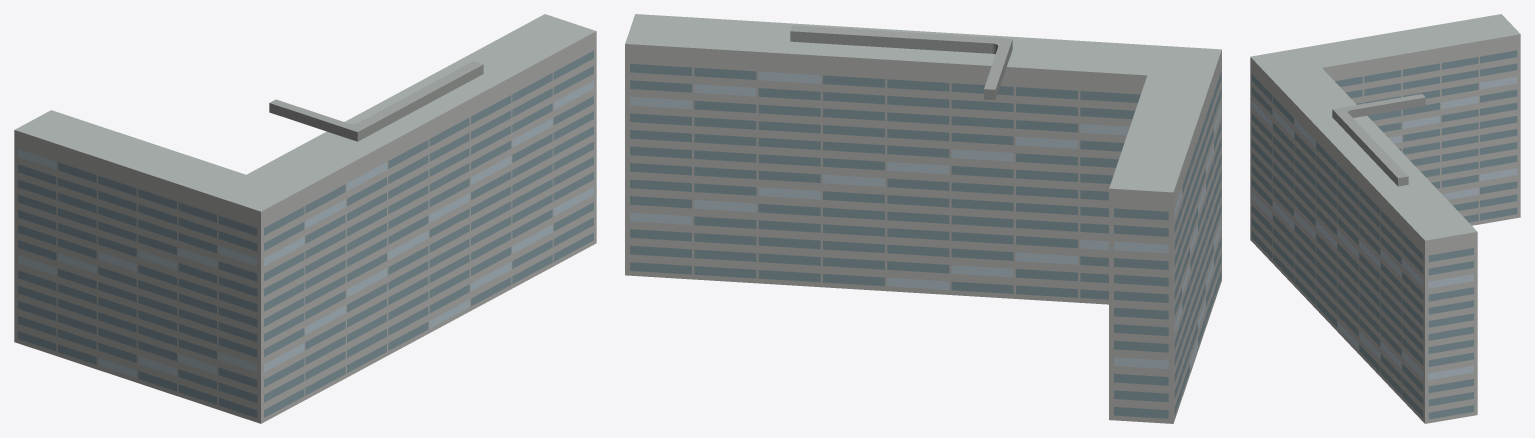
The model's file is fallback-daechi-eunma-17.glb.
3 renders of one model, left to right at view 1: azimuth 30°, elevation 25°; view 2: azimuth 150°, elevation 25°; view 3: azimuth 270°, elevation 25°, orthographic. The views are drawn at different scales.
Parts seen in each view (by area): view 1: fallback-daechi-eunma-17; view 2: fallback-daechi-eunma-17; view 3: fallback-daechi-eunma-17.
Boxes of the visible parts, bbox=[...] form: fallback-daechi-eunma-17: bbox=[14, 14, 596, 423]; fallback-daechi-eunma-17: bbox=[625, 14, 1221, 423]; fallback-daechi-eunma-17: bbox=[1250, 14, 1520, 423].
Size of the model in its own units: 113 by 44.62 by 57.11.
